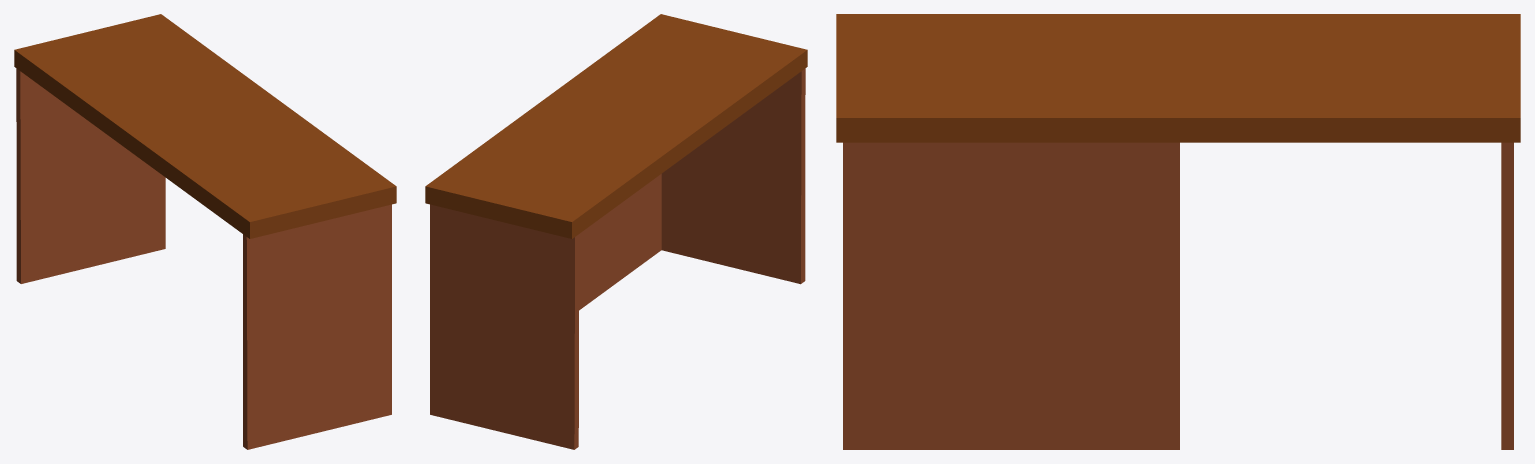
File: table.fbx
The picture shows the model from 3 angles, left to right: view 1: azimuth 30°, elevation 25°; view 2: azimuth 150°, elevation 25°; view 3: azimuth 270°, elevation 25°; orthographic projection. The views are drawn at different scales.
Parts seen in each view (by area): view 1: Table; view 2: Table; view 3: Table.
Part boxes in pixels (x1,y1,x2,y2): Table: (14, 14, 396, 449); Table: (425, 14, 807, 449); Table: (836, 14, 1520, 449).
Bounding box in the file's own units: 50.74 × 75.58 × 141.
